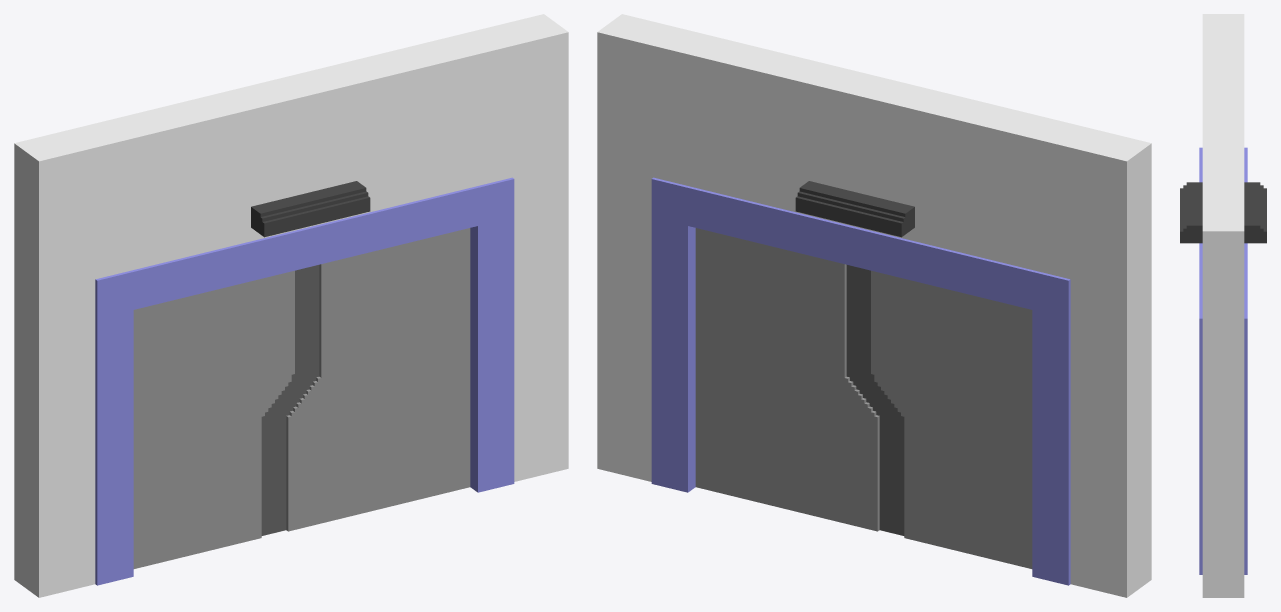
The model's file is Operating_room_Door2-4.fbx.
The picture shows the model from 3 angles, left to right: view 1: azimuth 30°, elevation 25°; view 2: azimuth 150°, elevation 25°; view 3: azimuth 270°, elevation 25°; orthographic projection. The views are drawn at different scales.
Parts seen in each view (by area): view 1: Operating room Door2-4.002, Operating room Door2-4.004, Operating room Door2-4.001, Operating room Door2-4.003, Operating room Door2-4; view 2: Operating room Door2-4.002, Operating room Door2-4.004, Operating room Door2-4.001, Operating room Door2-4.003, Operating room Door2-4; view 3: Operating room Door2-4, Operating room Door2-4.002, Operating room Door2-4.003.
Part boxes in pixels (x1,y1,x2,y2): Operating room Door2-4.002: (71, 28, 514, 585); Operating room Door2-4.004: (273, 228, 470, 533); Operating room Door2-4.001: (133, 268, 306, 568); Operating room Door2-4.003: (14, 129, 95, 597); Operating room Door2-4: (488, 14, 568, 481); Operating room Door2-4.002: (651, 28, 1094, 585); Operating room Door2-4.004: (695, 228, 892, 533); Operating room Door2-4.001: (859, 268, 1032, 568); Operating room Door2-4.003: (1070, 129, 1151, 597); Operating room Door2-4: (597, 14, 677, 481); Operating room Door2-4: (1202, 208, 1244, 597); Operating room Door2-4.002: (1180, 37, 1266, 574); Operating room Door2-4.003: (1202, 14, 1244, 36).
Size of the model in its own units: 1600 by 1260 by 270.
